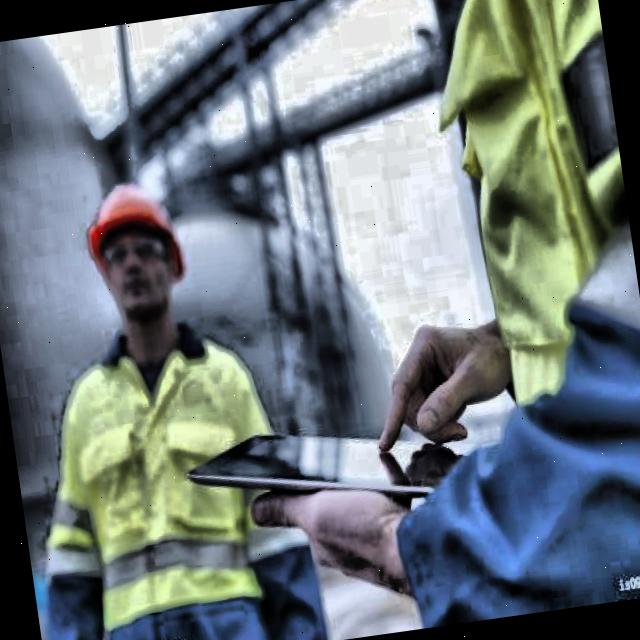helmet: (68, 154, 204, 354)
